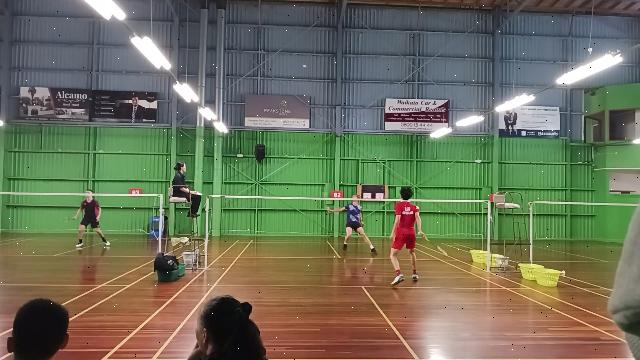Shuttlecock: (302, 61, 310, 71)
